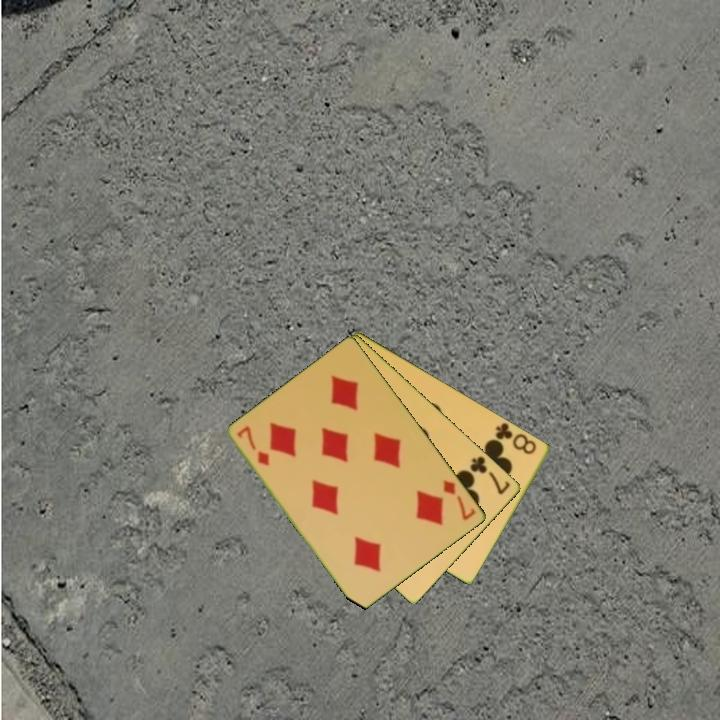7c: (467, 452, 513, 498)
7d: (440, 476, 479, 523), (234, 422, 273, 469)
8c: (489, 419, 540, 457)
